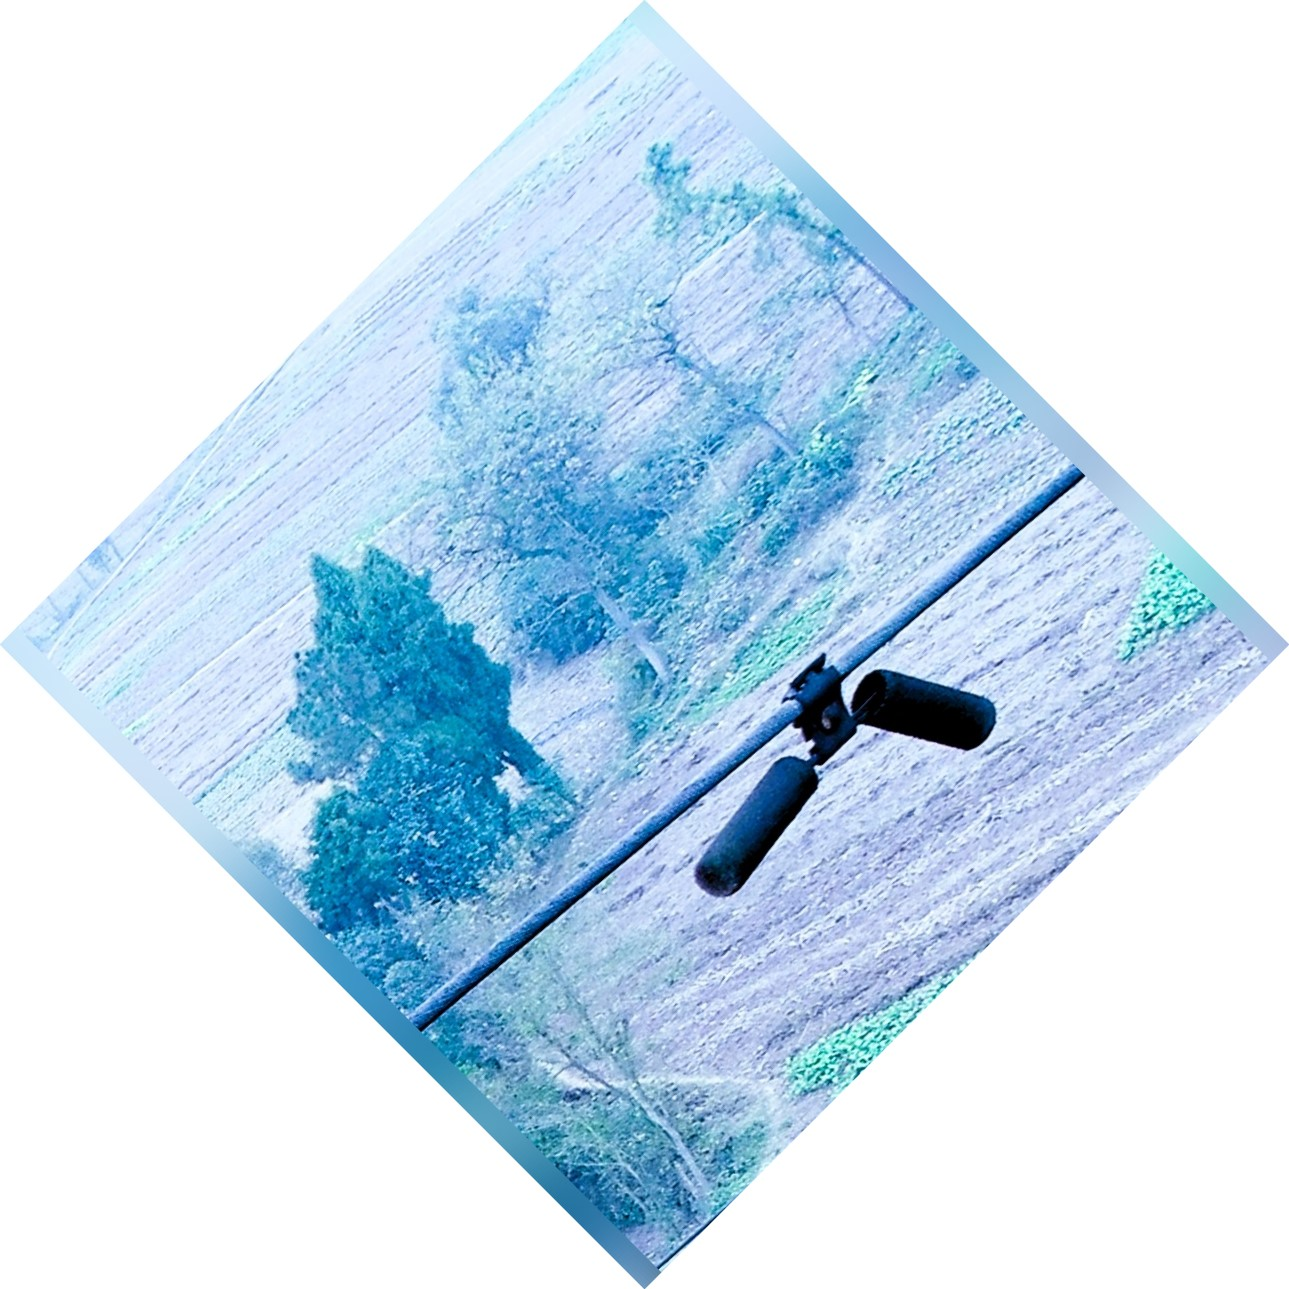Damage of shockproof hammer: (678, 632, 1020, 914)
